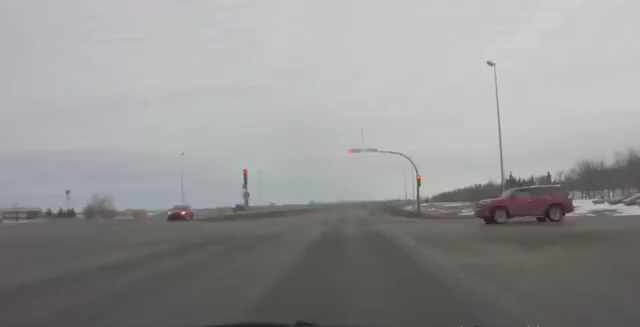car: (475, 183, 575, 223), (166, 203, 195, 220)
